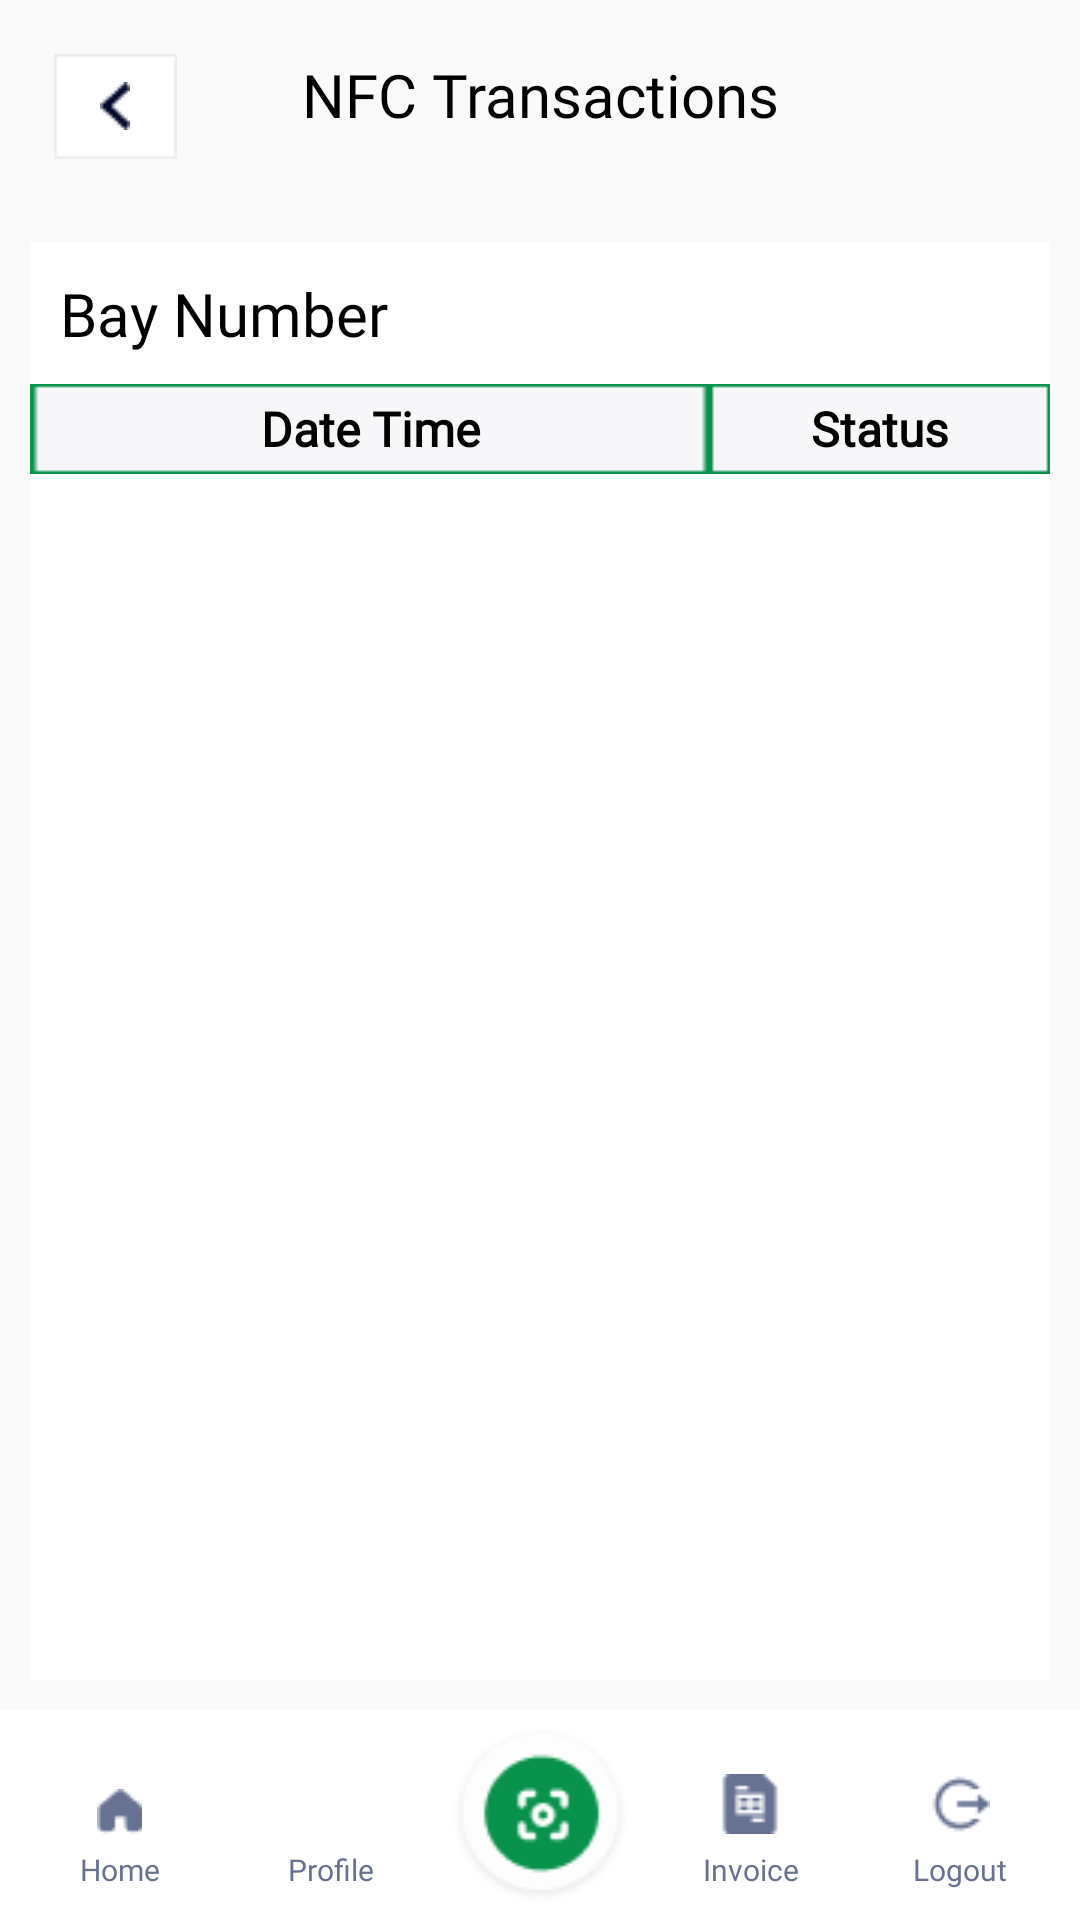

Named icons in this screenshot (1080px x 1920px) and their bounding boxes, (x1, y1, x2, y2):
back arrow: (100, 82, 130, 130)
scan: (483, 1754, 600, 1873)
